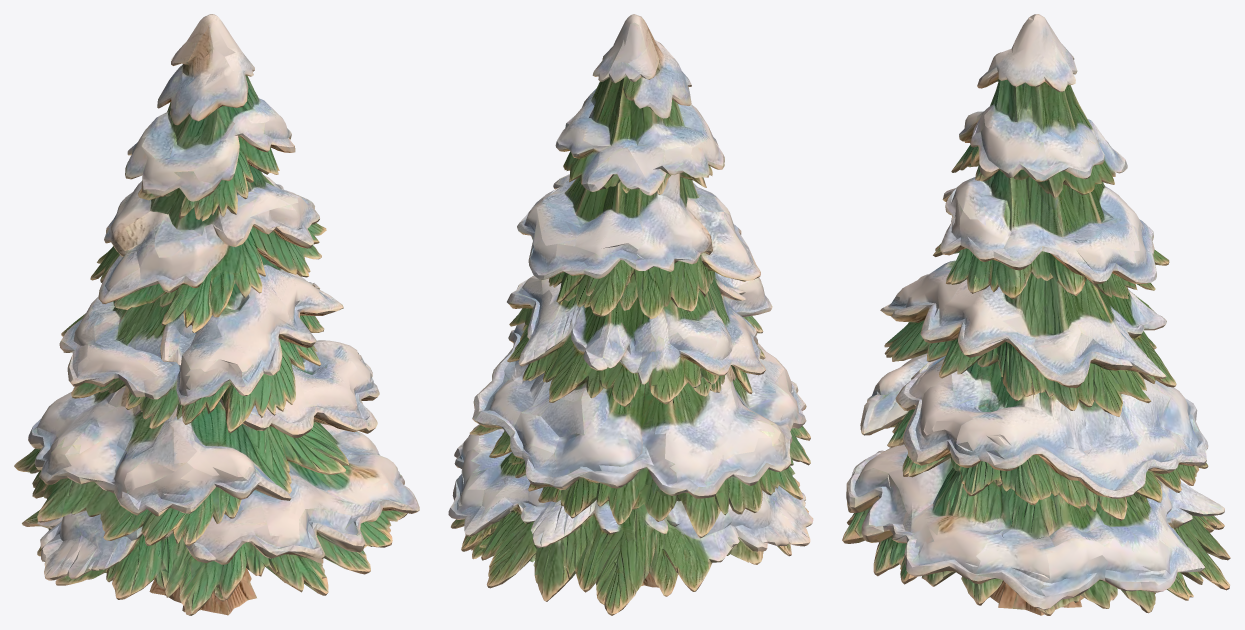
File: spruce_meshy.glb
3 renders of one model, left to right at view 1: azimuth 30°, elevation 25°; view 2: azimuth 150°, elevation 25°; view 3: azimuth 270°, elevation 25°, orthographic. The views are drawn at different scales.
Size of the model in its own units: 1.24 by 1.9 by 1.15.
Materials: 1 (1 with a texture image).
